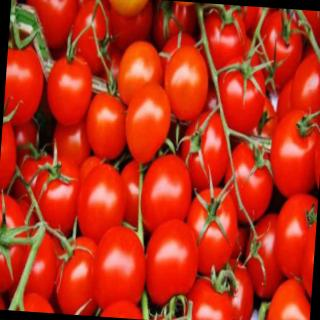Tomat: (183, 165, 243, 279), (45, 24, 97, 128), (267, 104, 320, 199), (215, 50, 270, 135)
